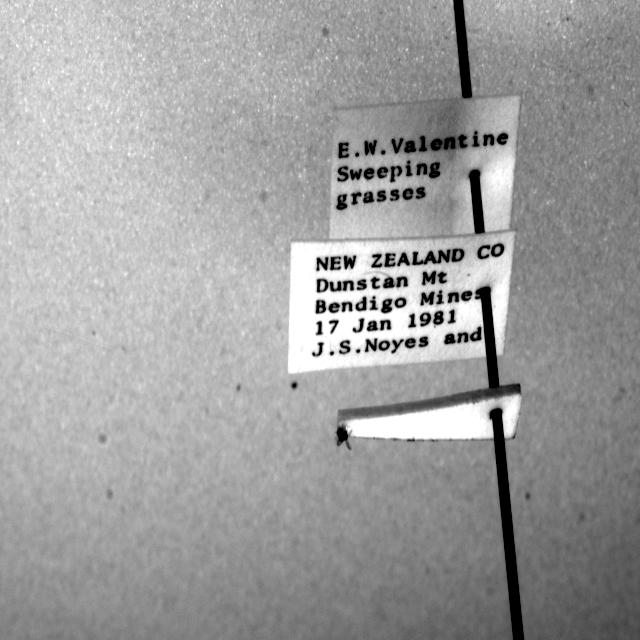typed_label: (289, 231, 515, 373), (329, 96, 521, 240)
